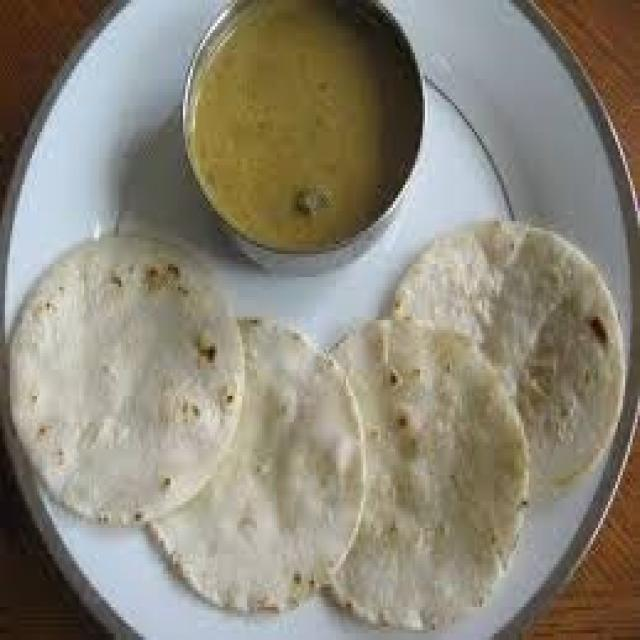RICE BHAKRI: (13, 232, 247, 531), (154, 308, 362, 613), (331, 317, 528, 631), (401, 224, 621, 499)
